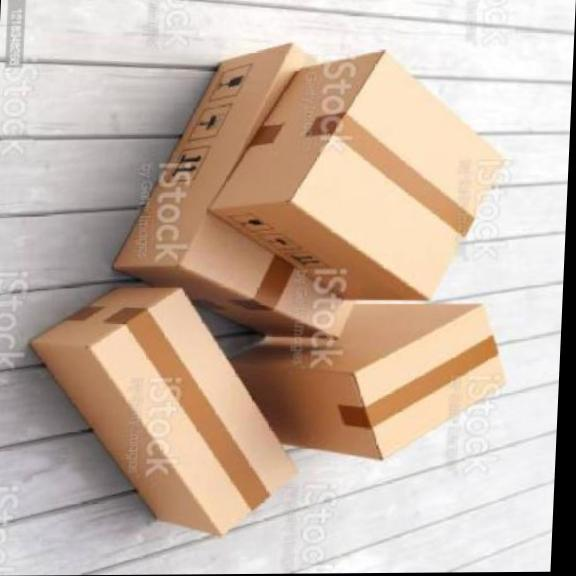Kertas: (31, 45, 505, 534)
